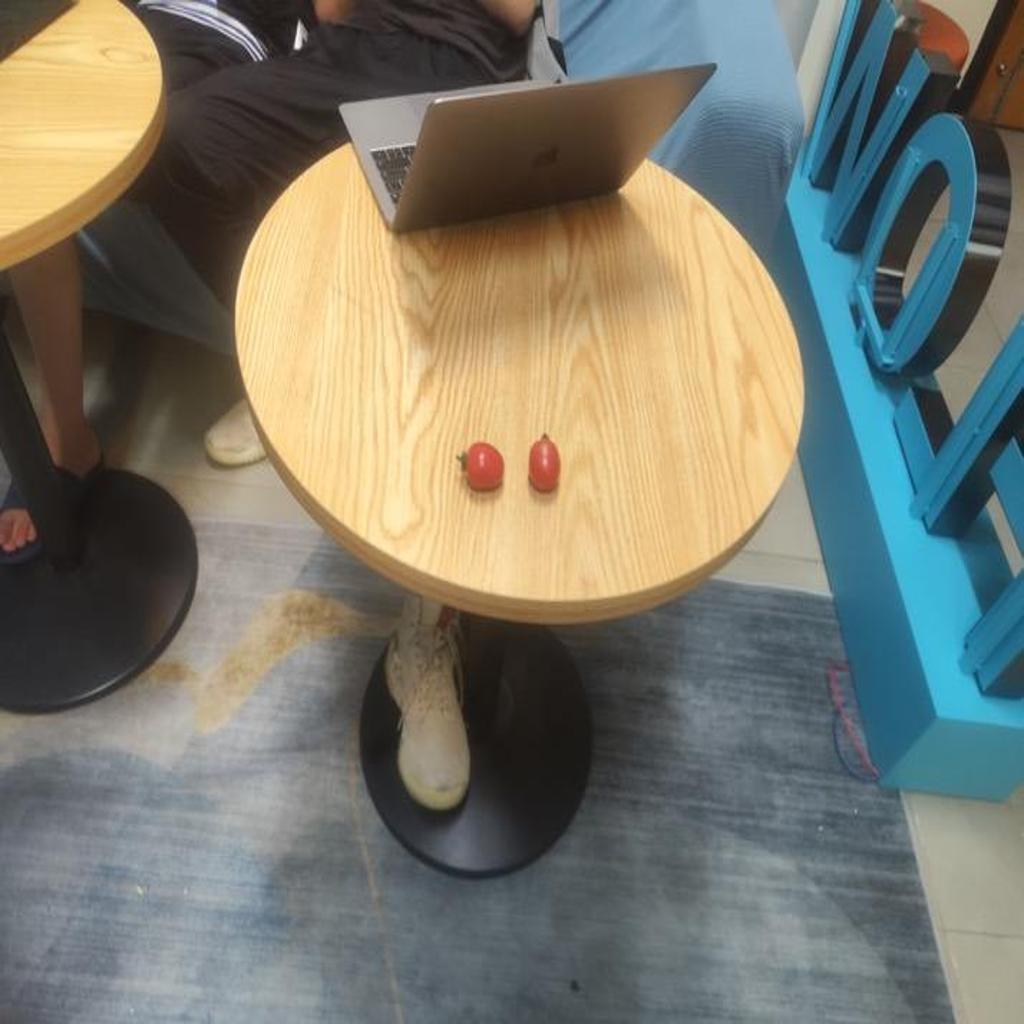tomato: (457, 443, 508, 491), (528, 434, 561, 496)
